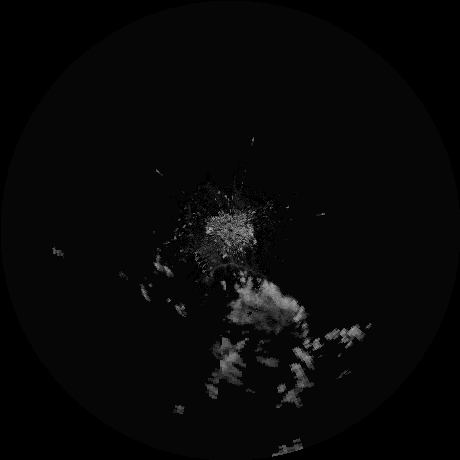frontgust: (204, 260, 260, 280)
